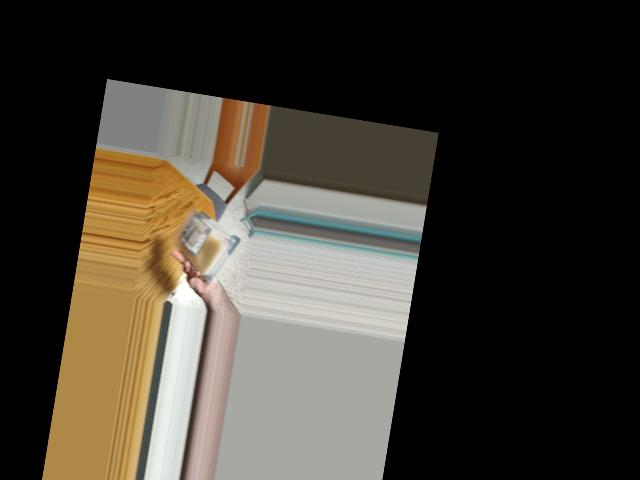cheese: (173, 210, 232, 278)
